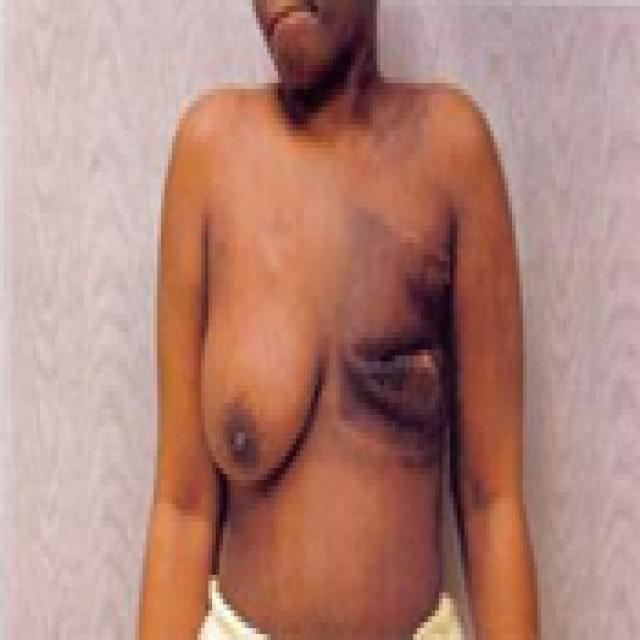Seno herido: (330, 250, 464, 481)
Seno ileso: (196, 250, 325, 510)
